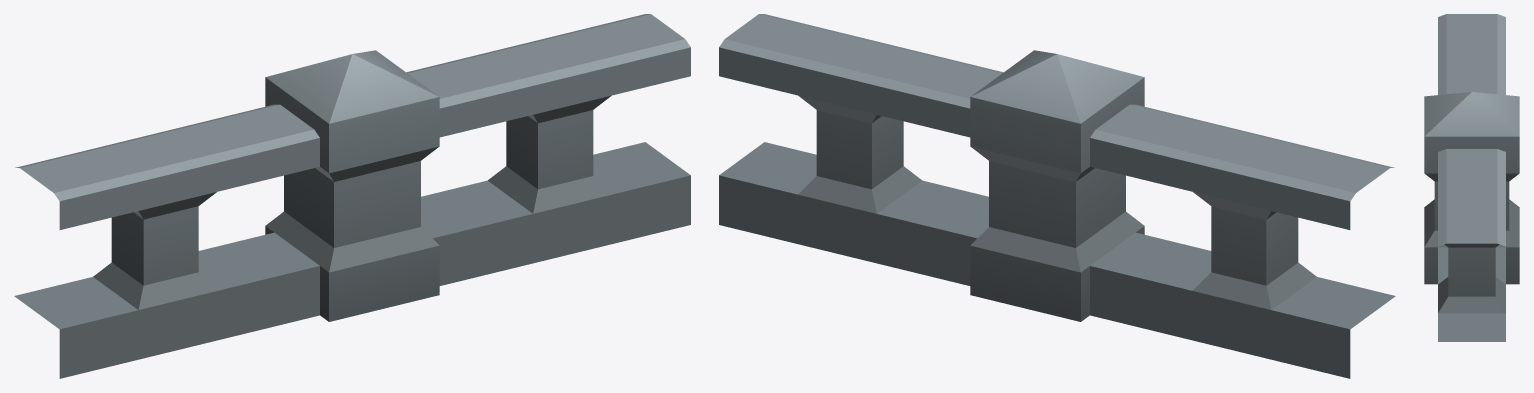
Rendered from dg_barrier_column.glb.
3 renders of one model, left to right at view 1: azimuth 30°, elevation 25°; view 2: azimuth 150°, elevation 25°; view 3: azimuth 270°, elevation 25°, orthographic. The views are drawn at different scales.
Visible parts, largest first — view 1: barrier_column; view 2: barrier_column; view 3: barrier_column.
Boxes of the visible parts, left/top/right/bottom form: barrier_column: left=14, top=14, right=690, bottom=378; barrier_column: left=719, top=14, right=1395, bottom=378; barrier_column: left=1424, top=14, right=1519, bottom=341.
Size of the model in its own units: 4 by 1.4 by 0.7.
1 material, 1 textured.
